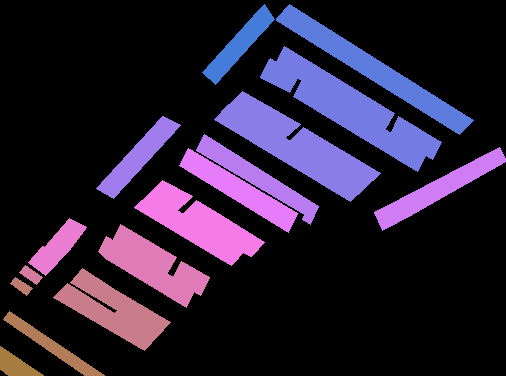parkingspot: (276, 4, 473, 134), (214, 104, 366, 201), (293, 79, 426, 171), (196, 134, 318, 224), (374, 147, 506, 230), (275, 46, 394, 130), (179, 148, 297, 232), (134, 193, 244, 265), (53, 283, 157, 350), (70, 268, 170, 337), (96, 116, 180, 198), (98, 236, 194, 307), (3, 311, 106, 376), (202, 4, 274, 84), (289, 127, 380, 187), (182, 200, 264, 256), (228, 91, 300, 138), (28, 218, 86, 275), (112, 224, 176, 274), (390, 116, 441, 159), (148, 180, 192, 211), (0, 346, 45, 376), (260, 58, 298, 92), (172, 261, 209, 295), (19, 265, 42, 284), (10, 277, 32, 295)
